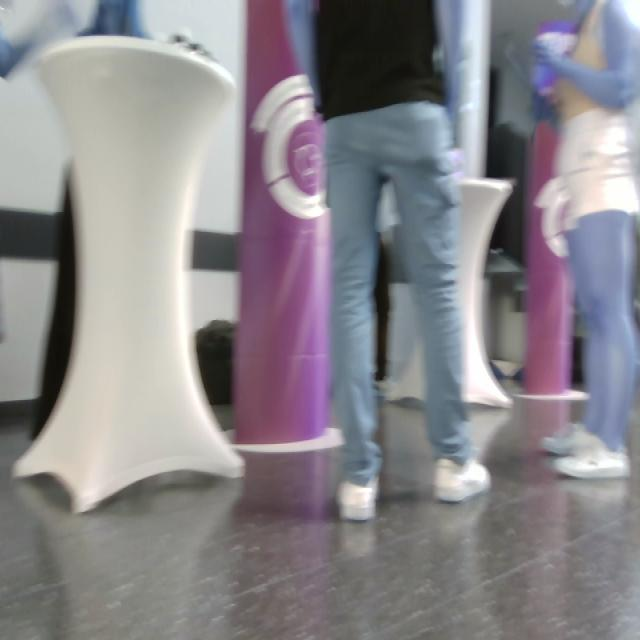light bulb: (11, 33, 246, 514)
person: (306, 1, 492, 522), (533, 1, 640, 481)
tiled floor: (2, 390, 638, 637)
